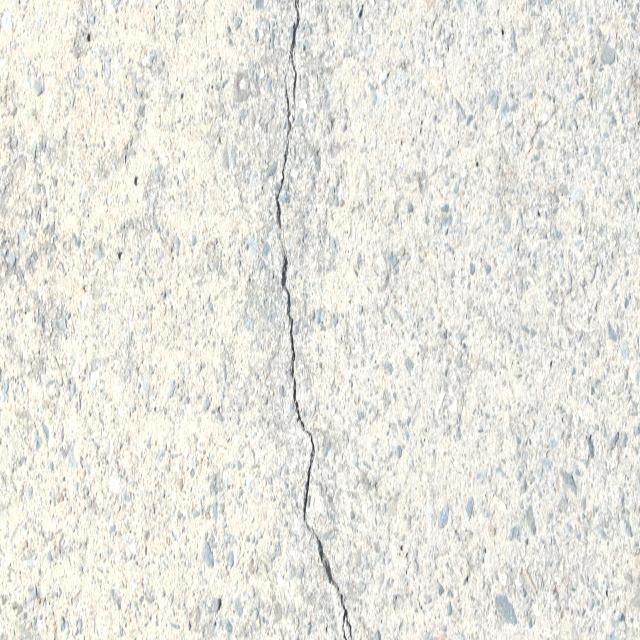SurfaceCrack: (234, 0, 379, 640)
